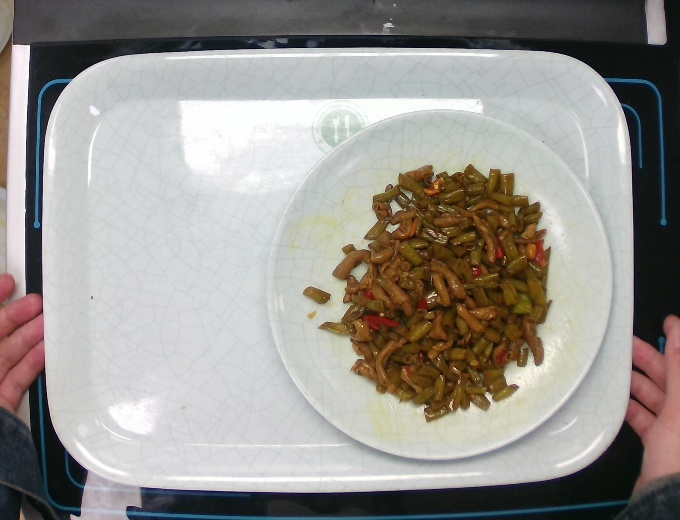JYsf-Da_Yuan_Pan: (258, 102, 620, 471)
